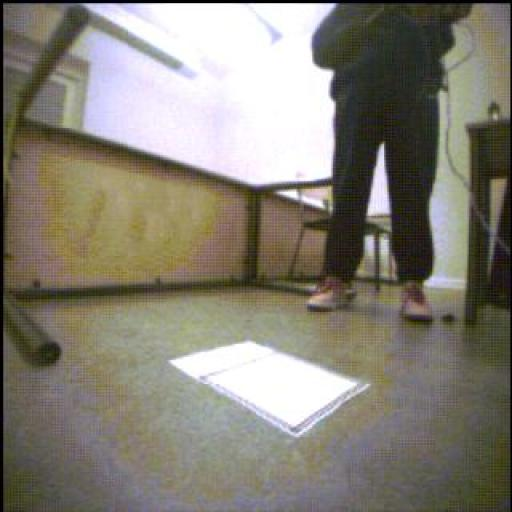Pad: (171, 342, 371, 438)
